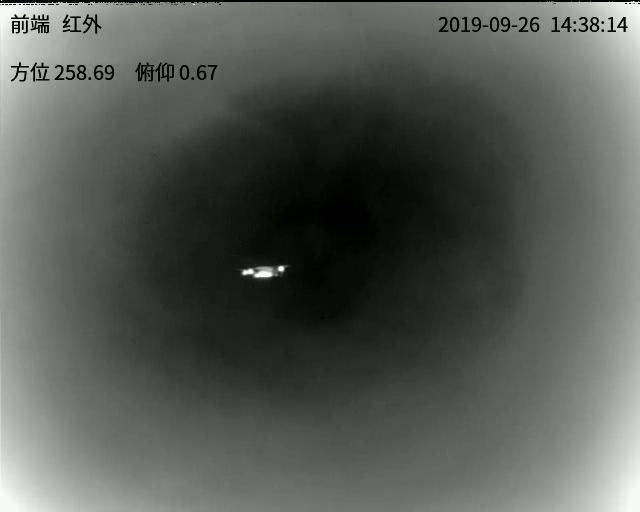DRONE: (237, 262, 292, 280)
